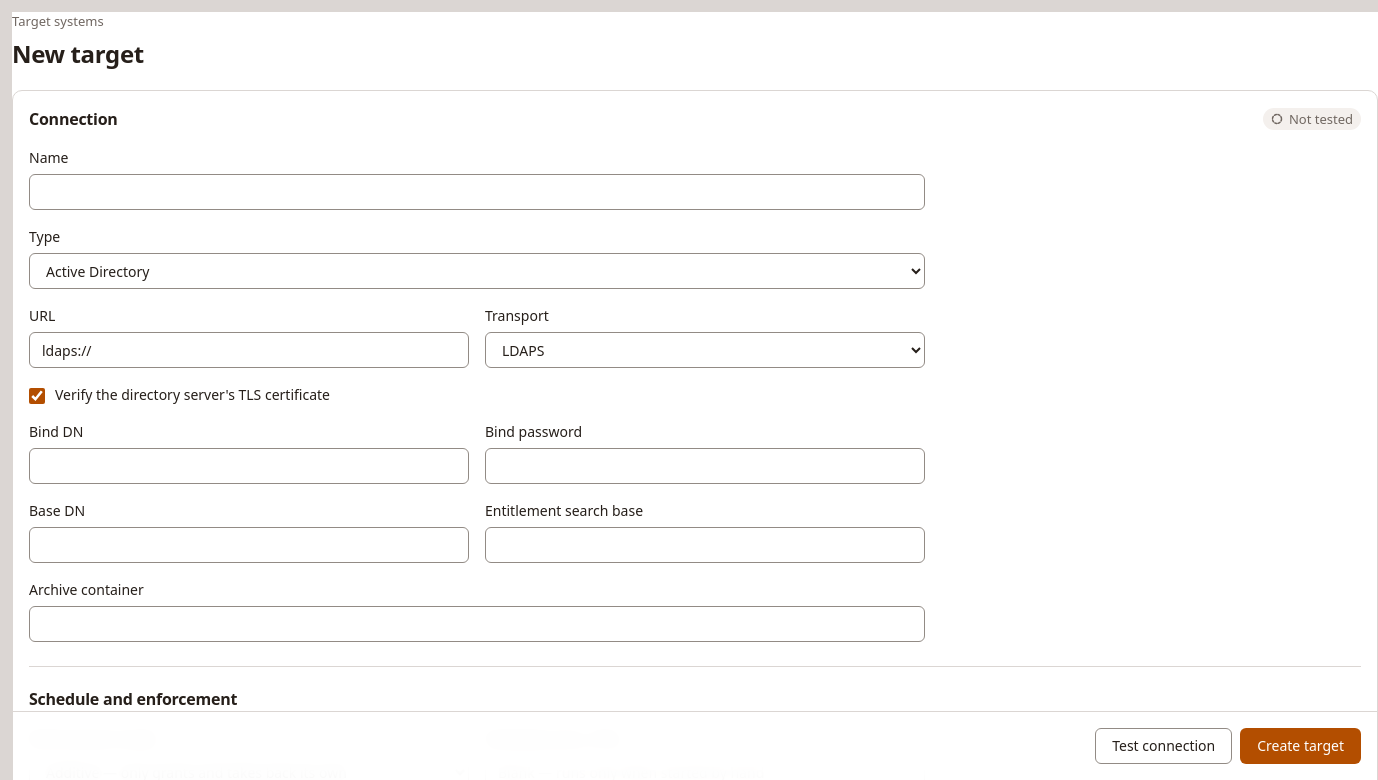
TargetDetailPage › shows the SCIM field group instead of the Active Directory fields when scim2 is selected
The image size is (1378, 780).
Expected: the field labelled "Bind DN" is shown, x1=29 y1=448 x2=469 y2=484
Select "SCIM 2.0" in the dropdown labelled "Type" at (477, 271), box x1=29 y1=253 x2=925 y2=289
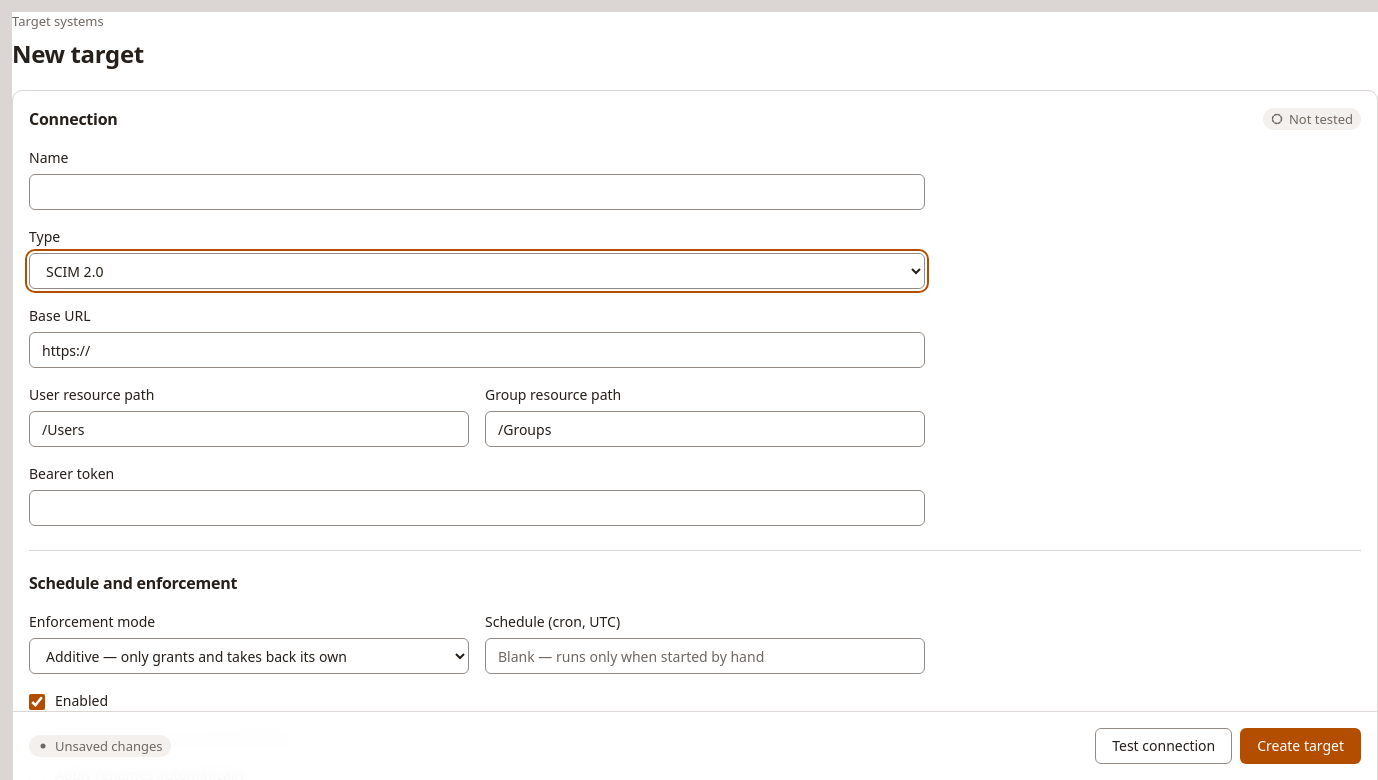
Expected: the field labelled "Base URL" is shown, x1=29 y1=332 x2=925 y2=368
Expected: the label labelled "Bind DN" is gone
